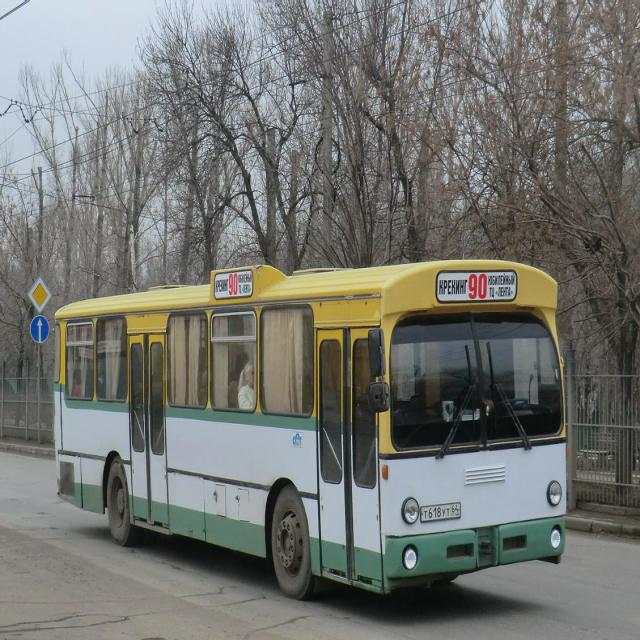number-of-bus: (468, 274, 490, 301), (230, 274, 240, 297)
